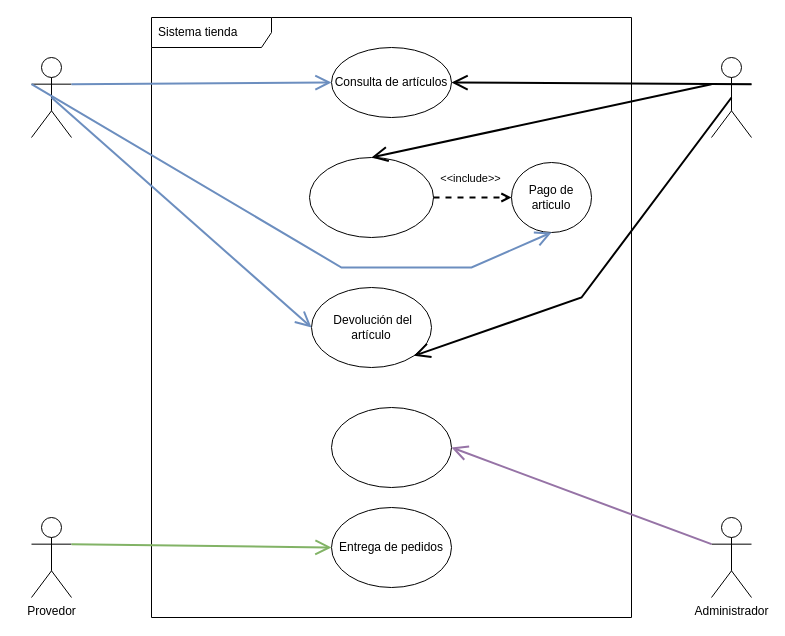
Some shapes in this 785 by 636 pixel diagram are drawn without their labels. Each missing label, with the box of its shape:
Cajero: (710, 56, 752, 138)
Ciente: (30, 56, 72, 138)
Registro de productos: (330, 406, 452, 488)
Venta de articulos: (308, 156, 434, 238)
